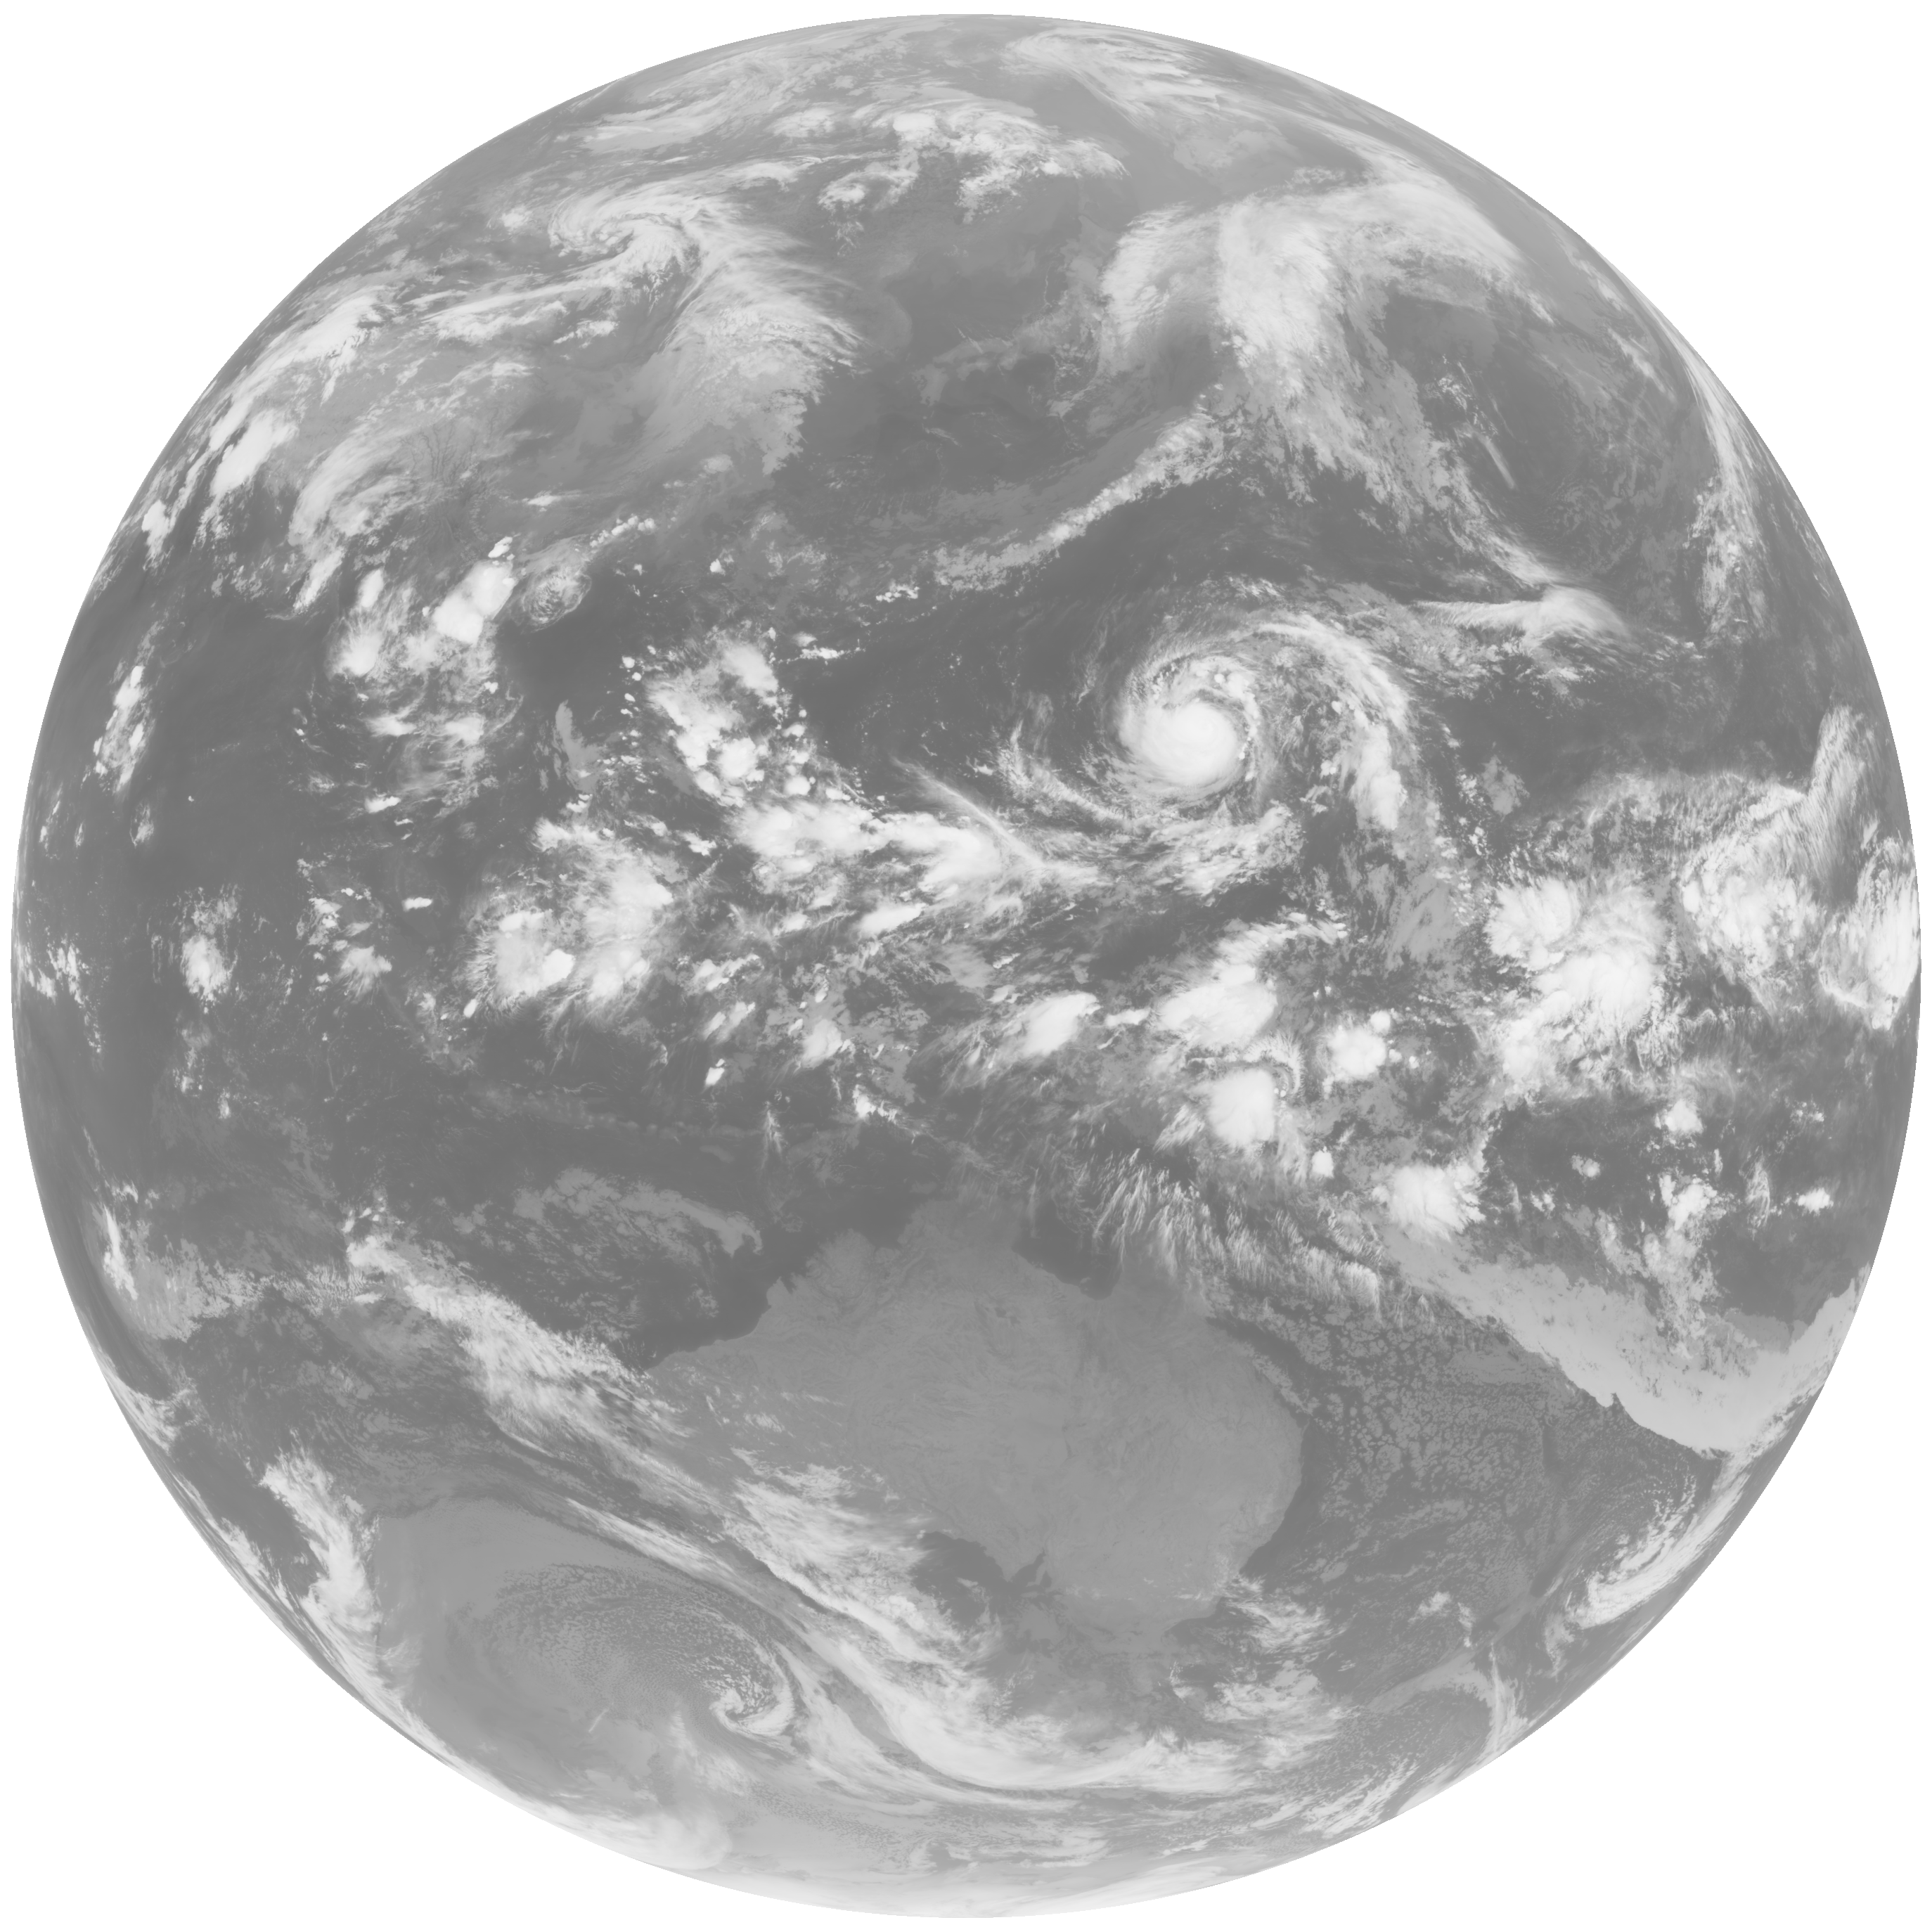typhoon: (984, 563, 1525, 897)
